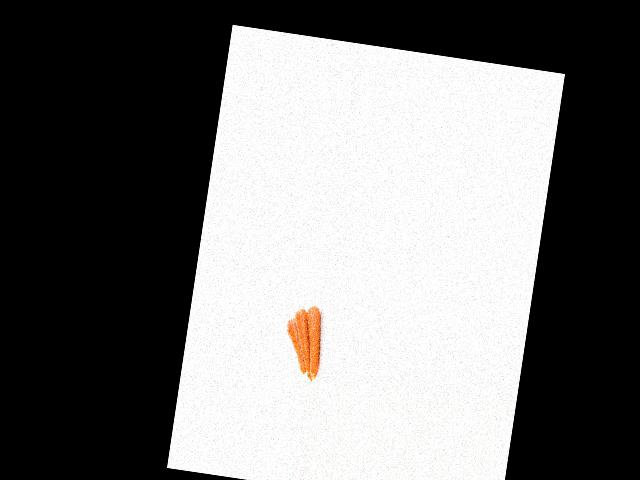carrot: (297, 302, 331, 379)
